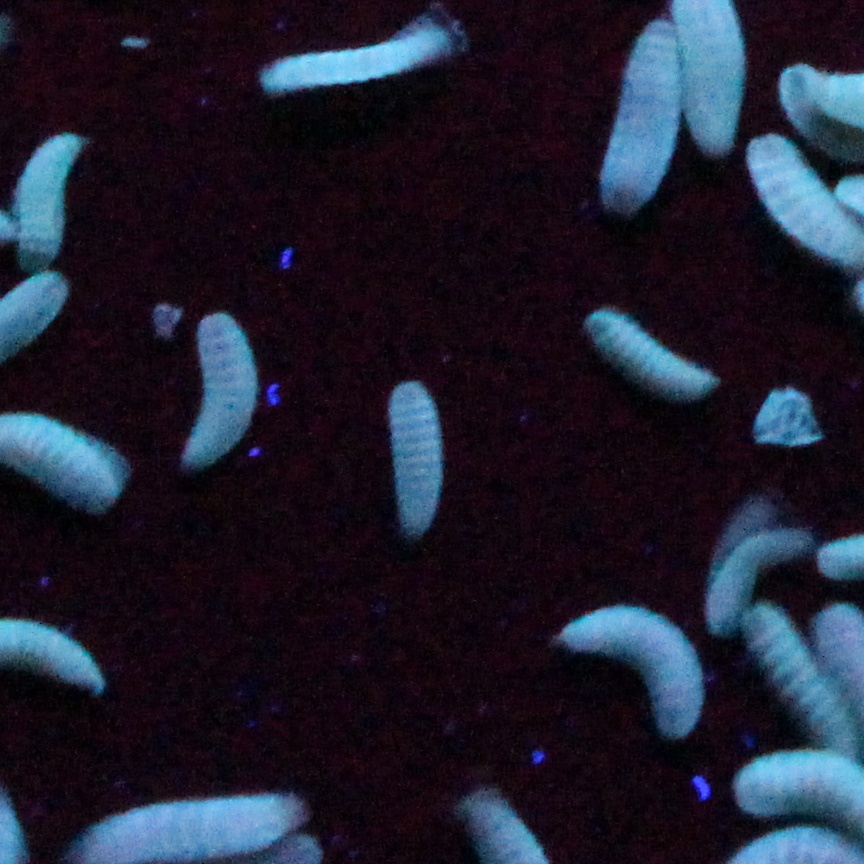larve: (566, 612, 703, 739), (756, 606, 864, 761), (270, 18, 464, 94), (599, 21, 668, 216), (588, 308, 713, 396), (194, 308, 260, 465), (711, 521, 799, 633), (13, 123, 82, 253), (390, 378, 441, 545)
